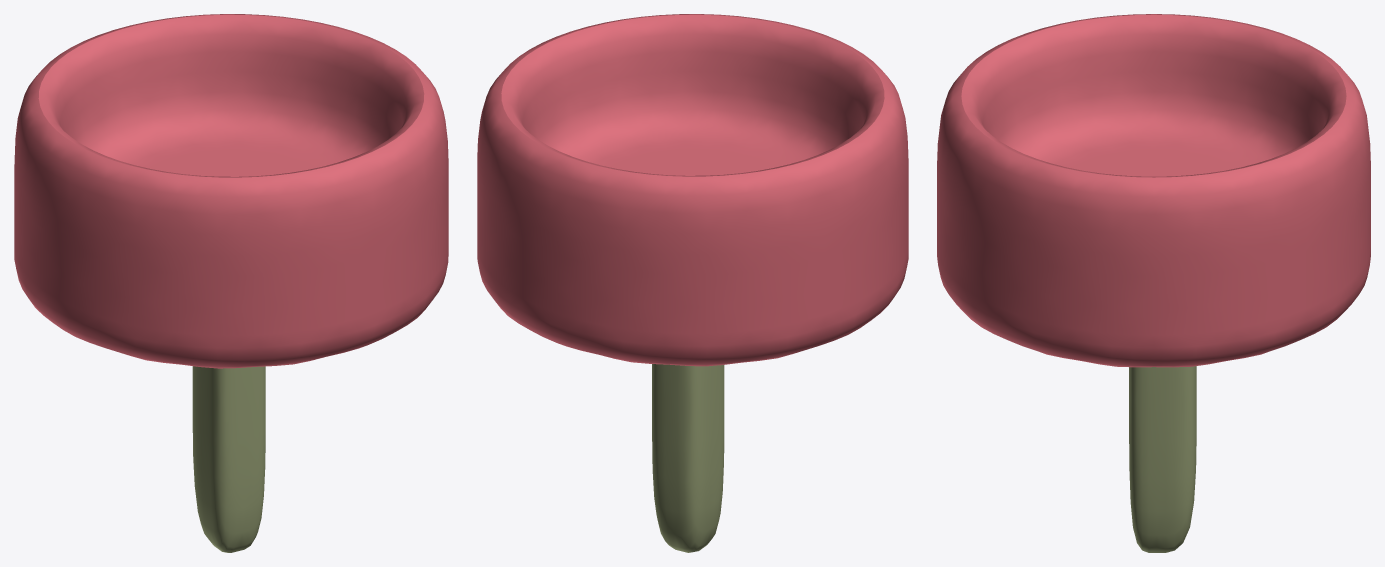
Rendered from Mushrom 10.fbx.
3 views of the same model, side by side, from view 1: azimuth 30°, elevation 25°; view 2: azimuth 150°, elevation 25°; view 3: azimuth 270°, elevation 25° (orthographic).
Parts seen in each view (by area): view 1: Cylinder, Cube; view 2: Cylinder, Cube; view 3: Cylinder, Cube.
Part boxes in pixels (x1=…): Cylinder: x1=14, y1=14, x2=448, y2=368; Cube: x1=192, y1=366, x2=265, y2=552; Cylinder: x1=477, y1=14, x2=908, y2=366; Cube: x1=652, y1=364, x2=724, y2=552; Cylinder: x1=937, y1=14, x2=1370, y2=367; Cube: x1=1129, y1=366, x2=1196, y2=552.
Bounding box in the file's own units: 216 × 248 × 216.
